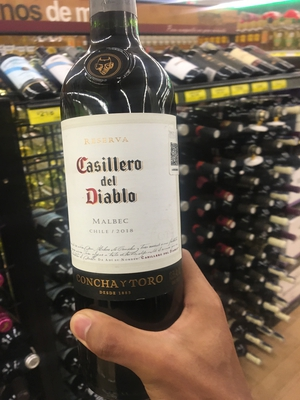casillero del diablo malbec: (54, 2, 212, 348)
